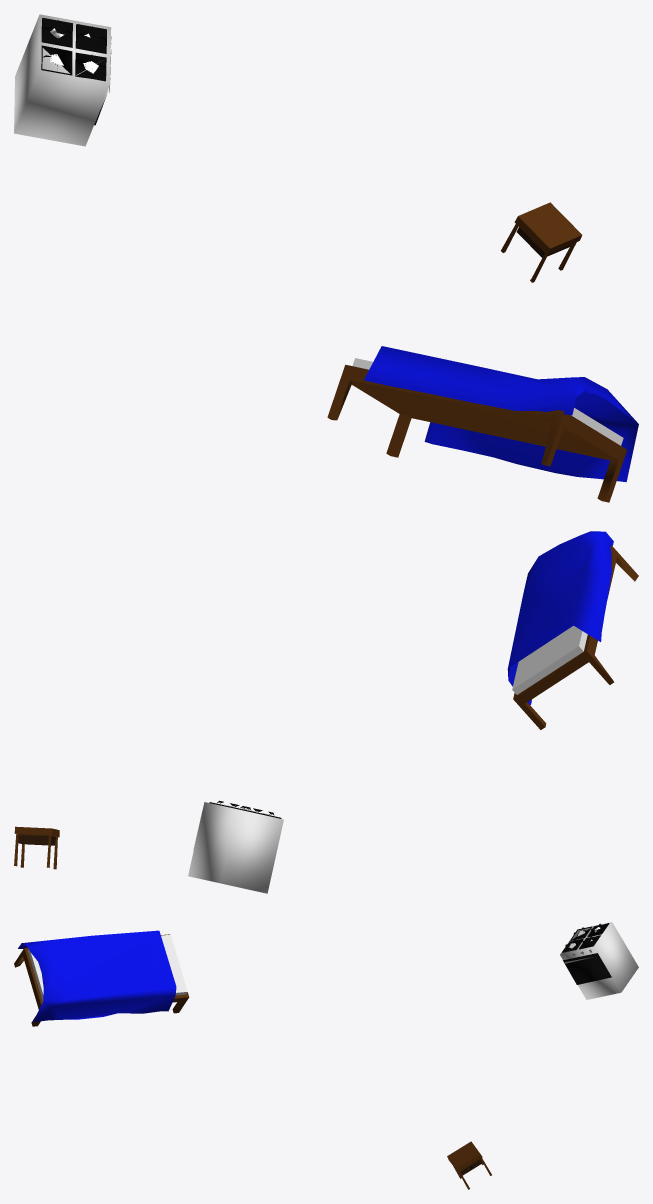
Rendered from threeJsSceneNormalFloating.glb.
3 views of the same model, one above another, from view 1: azimuth 30°, elevation 25°; view 2: azimuth 150°, elevation 25°; view 3: azimuth 270°, elevation 25° (orthographic). The views are drawn at different scales.
Parts seen in each view (by area): view 1: Bed, Cube.002, Drawer; view 2: Bed, Cube.002, Drawer; view 3: Bed, Cube.002, Drawer.
Boxes of the visible parts, x1=… form: Bed: x1=327, y1=346, x2=638, y2=502; Cube.002: x1=14, y1=14, x2=111, y2=146; Drawer: x1=501, y1=202, x2=582, y2=282; Bed: x1=507, y1=531, x2=638, y2=729; Cube.002: x1=188, y1=800, x2=283, y2=893; Drawer: x1=14, y1=826, x2=59, y2=869; Bed: x1=14, y1=930, x2=189, y2=1026; Cube.002: x1=560, y1=922, x2=638, y2=999; Drawer: x1=447, y1=1141, x2=491, y2=1189.
Bounding box in the file's own units: 19.33 × 9.56 × 35.24.
